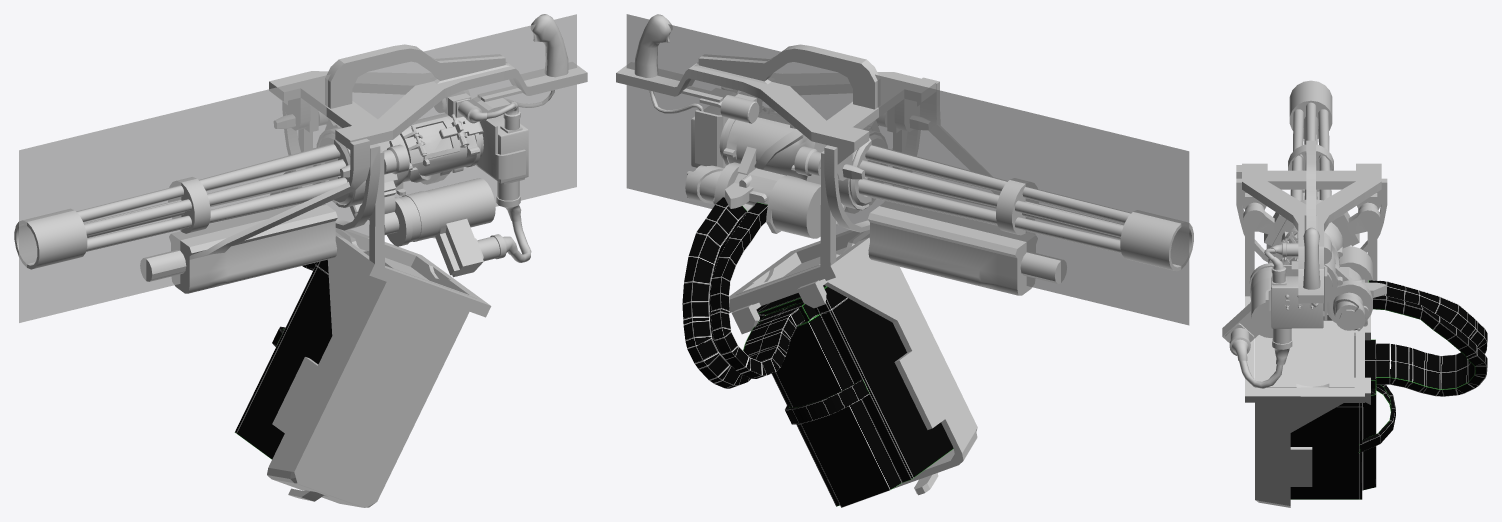
3 renders of one model, left to right at view 1: azimuth 30°, elevation 25°; view 2: azimuth 150°, elevation 25°; view 3: azimuth 270°, elevation 25°, orthographic. The views are drawn at different scales.
Parts seen in each view (by area): view 1: Cylinder004, Plane001, Plane002, Barrel_assembly, M134_500rndcasette; view 2: Cylinder004, Plane001, Plane002, M134_500rndcasette, Barrel_assembly, Flexline; view 3: Cylinder004, Flexline, M134_500rndcasette, Barrel_assembly.
Boxes of the visible parts, left/top/right/bottom form: Cylinder004: left=140, top=14, right=587, bottom=507; Plane001: left=19, top=14, right=576, bottom=322; Plane002: left=19, top=14, right=576, bottom=322; Barrel_assembly: left=14, top=134, right=353, bottom=269; M134_500rndcasette: left=234, top=259, right=332, bottom=459; Cylinder004: left=616, top=14, right=1066, bottom=488; Plane001: left=626, top=14, right=1189, bottom=325; Plane002: left=627, top=14, right=1188, bottom=324; M134_500rndcasette: left=756, top=285, right=953, bottom=507; Barrel_assembly: left=849, top=134, right=1193, bottom=271; Flexline: left=682, top=197, right=804, bottom=388; Cylinder004: left=1222, top=140, right=1387, bottom=507; Flexline: left=1368, top=280, right=1487, bottom=396; M134_500rndcasette: left=1290, top=336, right=1395, bottom=499; Barrel_assembly: left=1288, top=80, right=1333, bottom=200.
Size of the model in its own units: 229 by 168 by 109.
